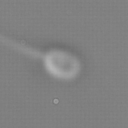normal: (1, 29, 46, 62)
